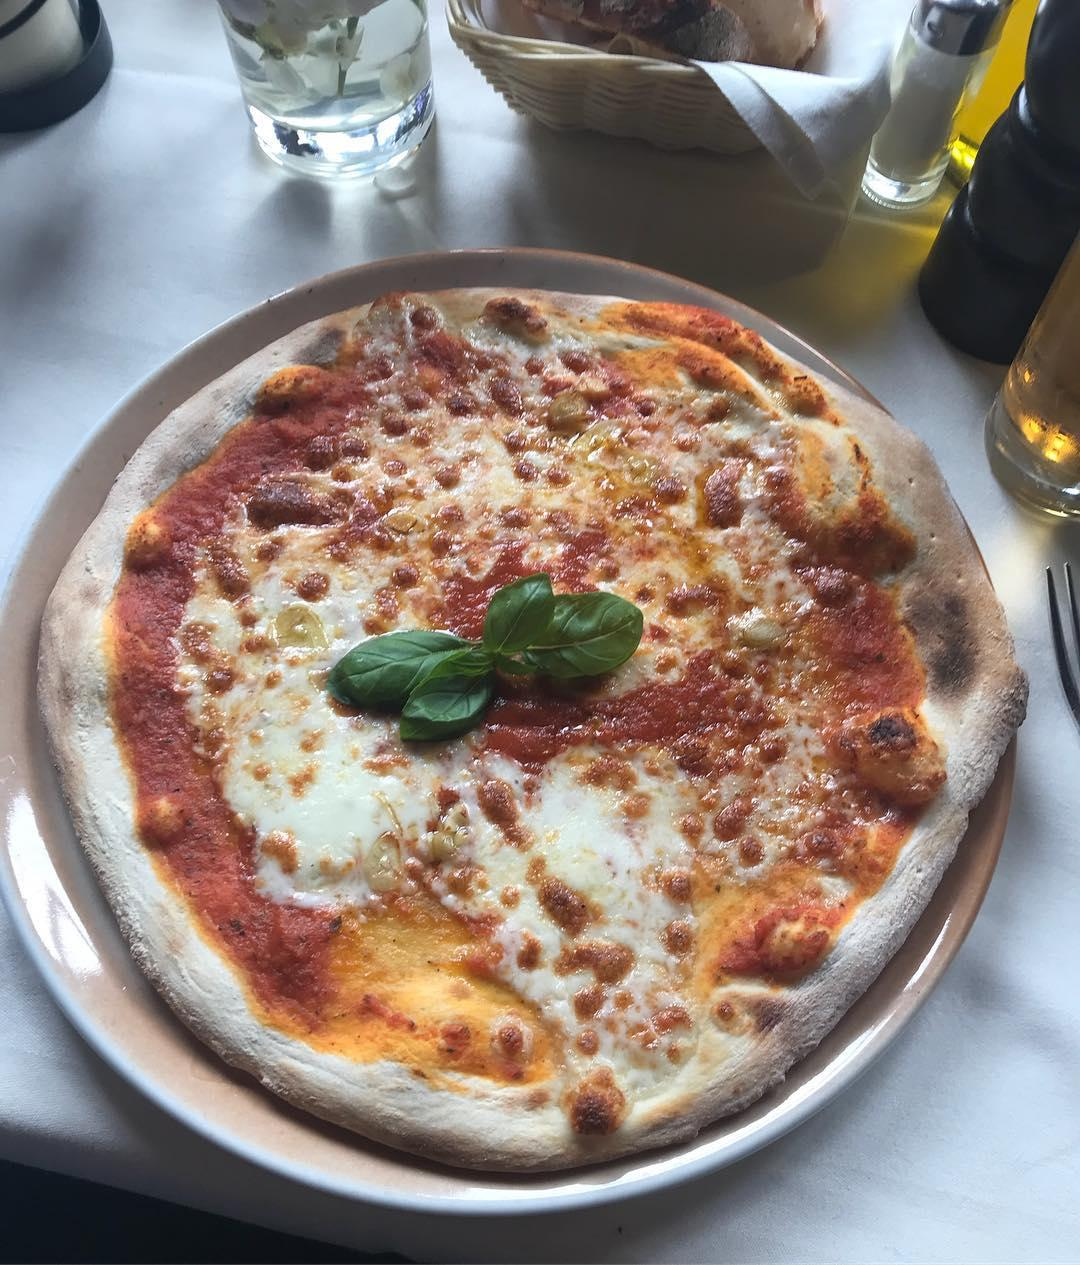Basil: (336, 587, 641, 713)
Pizza: (44, 295, 1032, 1177)
